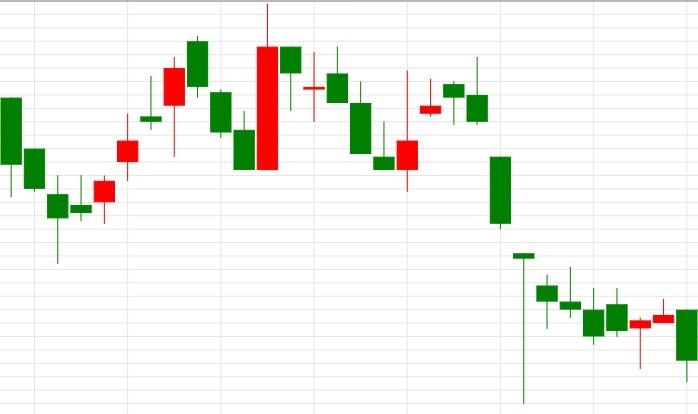bullish_engulfing_rise: (186, 3, 278, 170)
